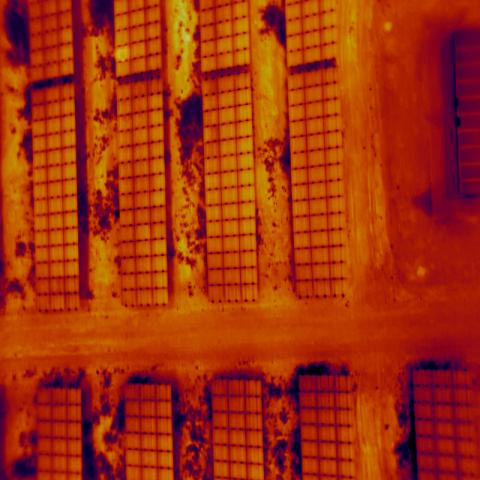fault: (114, 43, 130, 61)
